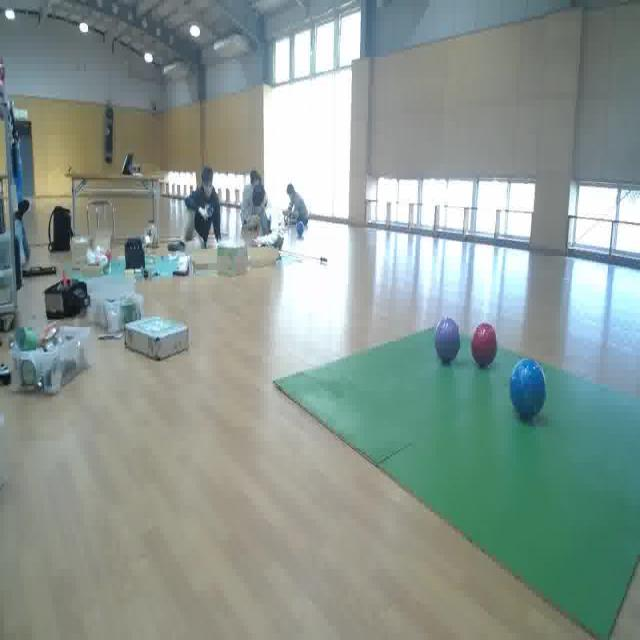blue_ball: (511, 358, 547, 422)
purple_ball: (434, 317, 463, 366)
red_ball: (472, 323, 500, 369)
